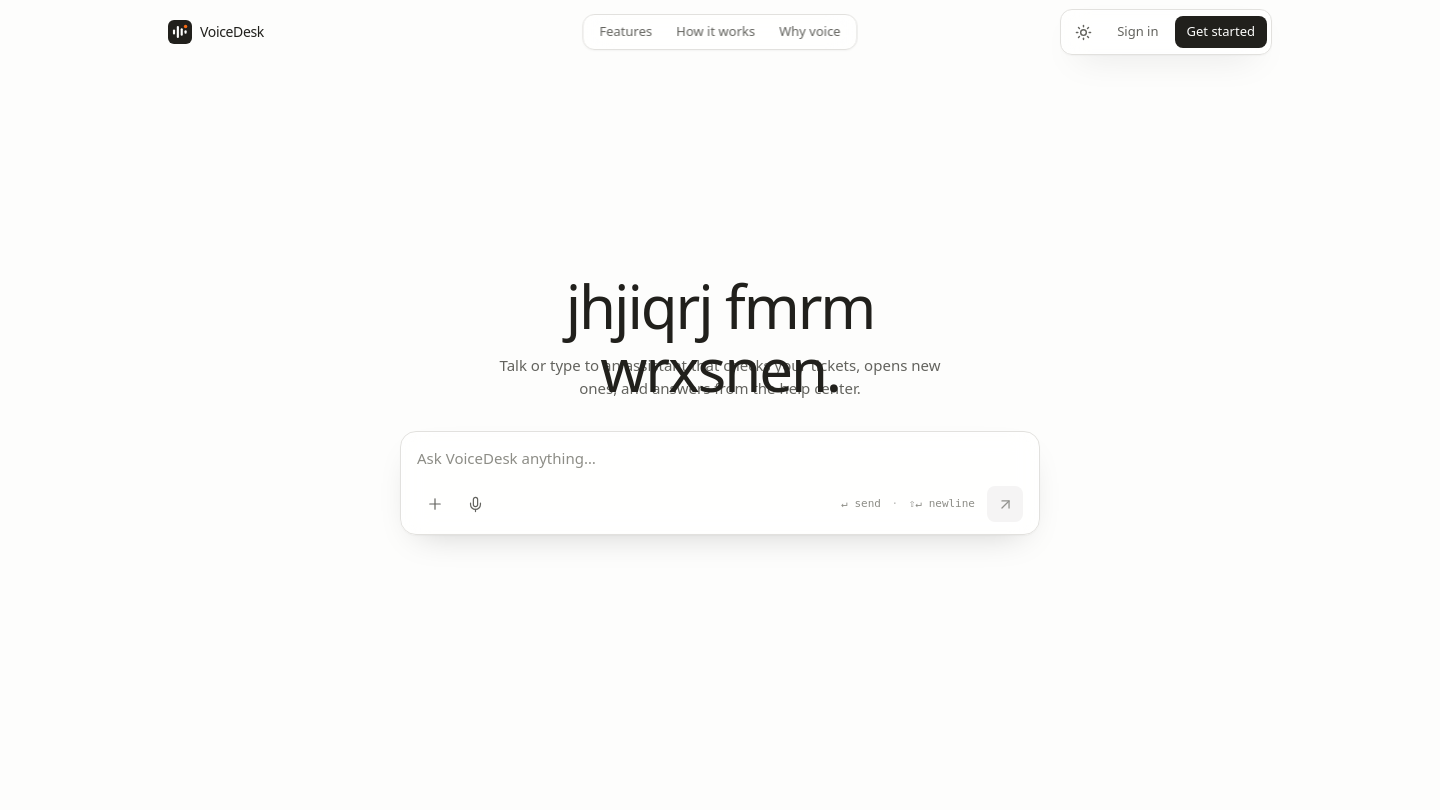
Test: LandingPage › opens sign-up from Get started
Click the button "Get started".
click(1221, 32)  # box [1174, 16, 1267, 48]
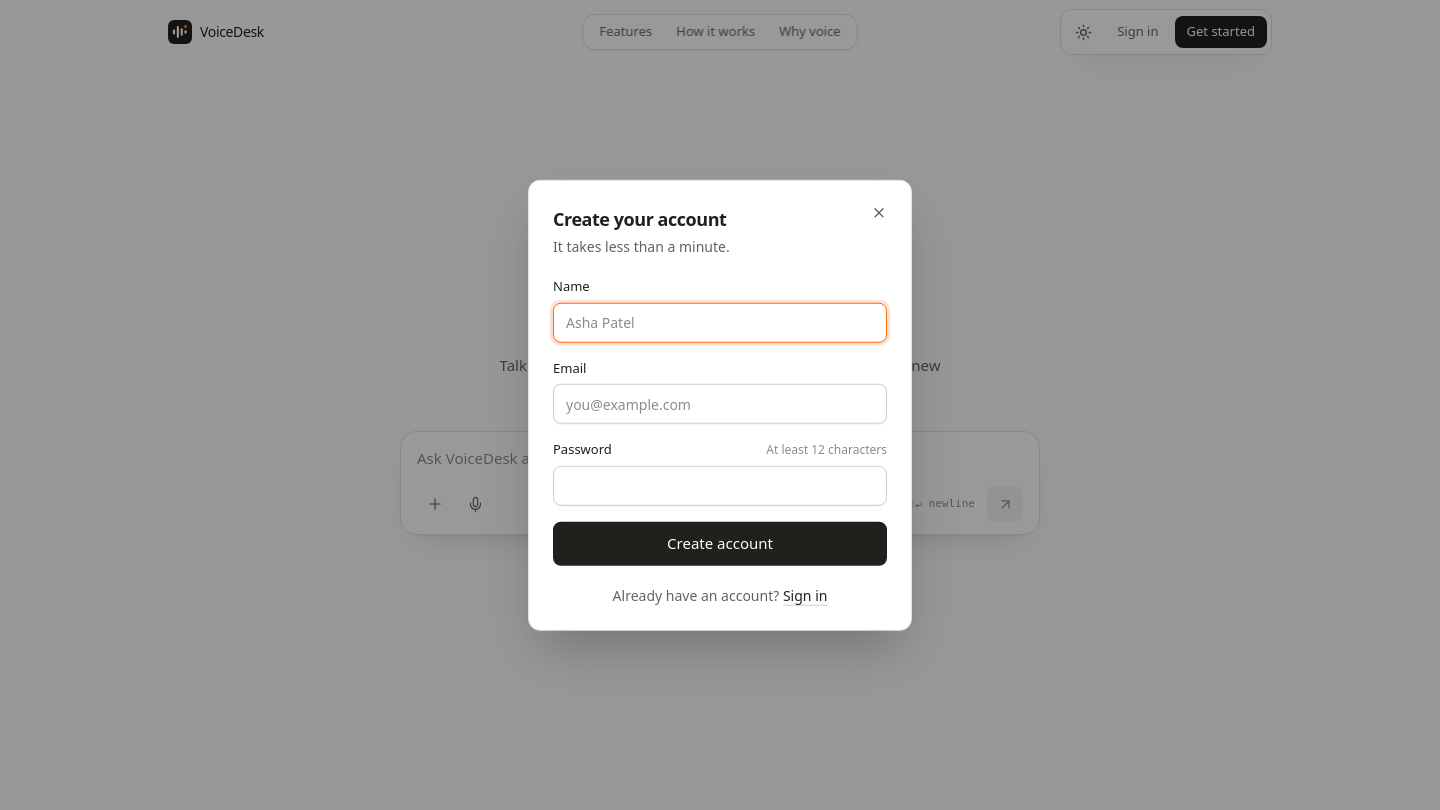
Expected: the dialog "Create your account" is shown, [528, 180, 912, 630]
